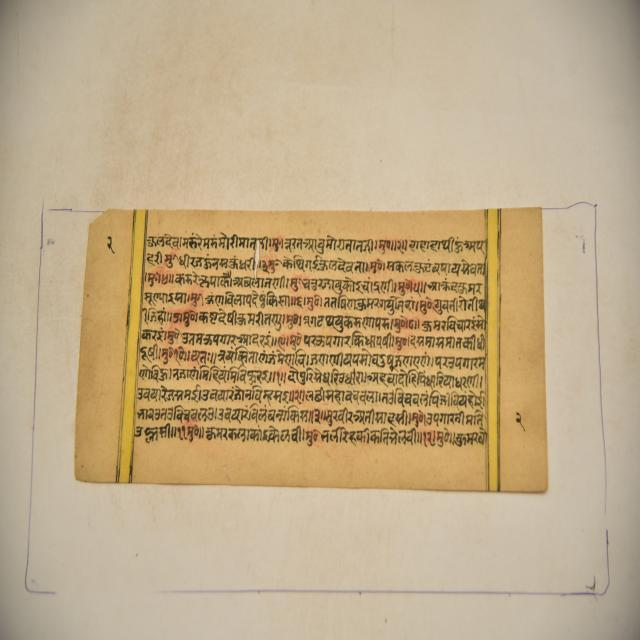text_paragraph: (73, 208, 547, 493)
